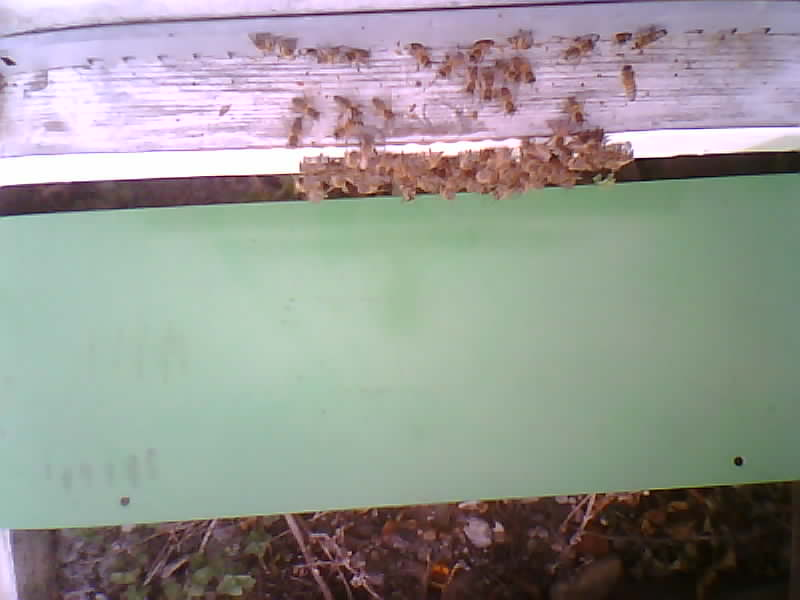bee: (291, 149, 635, 199), (413, 42, 543, 117), (258, 32, 388, 78), (291, 95, 385, 140), (565, 27, 668, 63), (620, 67, 647, 102)
hornet: (410, 556, 460, 597)
